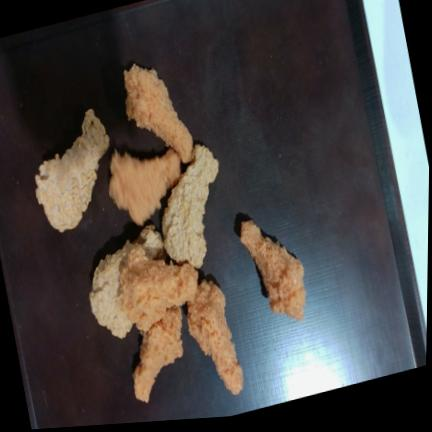chicken: (36, 109, 109, 232), (90, 225, 164, 338), (162, 144, 219, 268), (124, 64, 193, 163), (241, 220, 306, 320), (187, 280, 243, 395), (121, 249, 198, 330), (110, 148, 181, 225), (133, 306, 183, 402)
